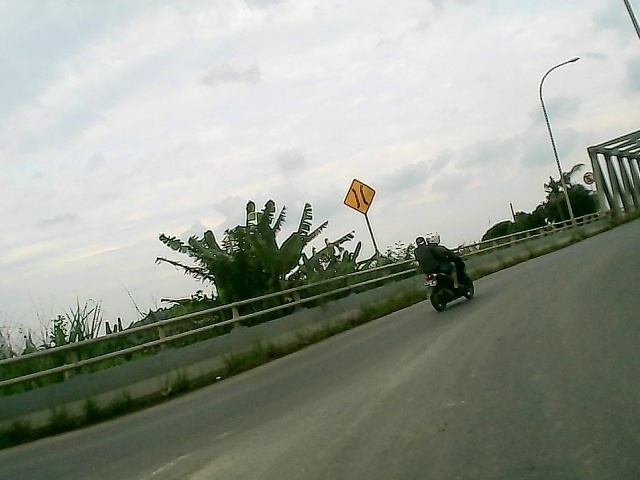Jembatan: (339, 177, 381, 216)
